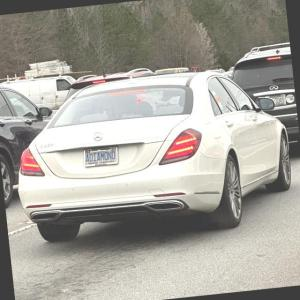Plate: (83, 146, 118, 167)
